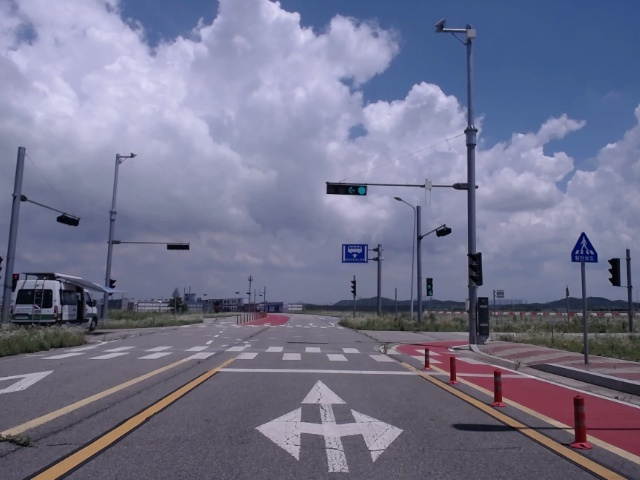all_green_4: (328, 181, 368, 196)
